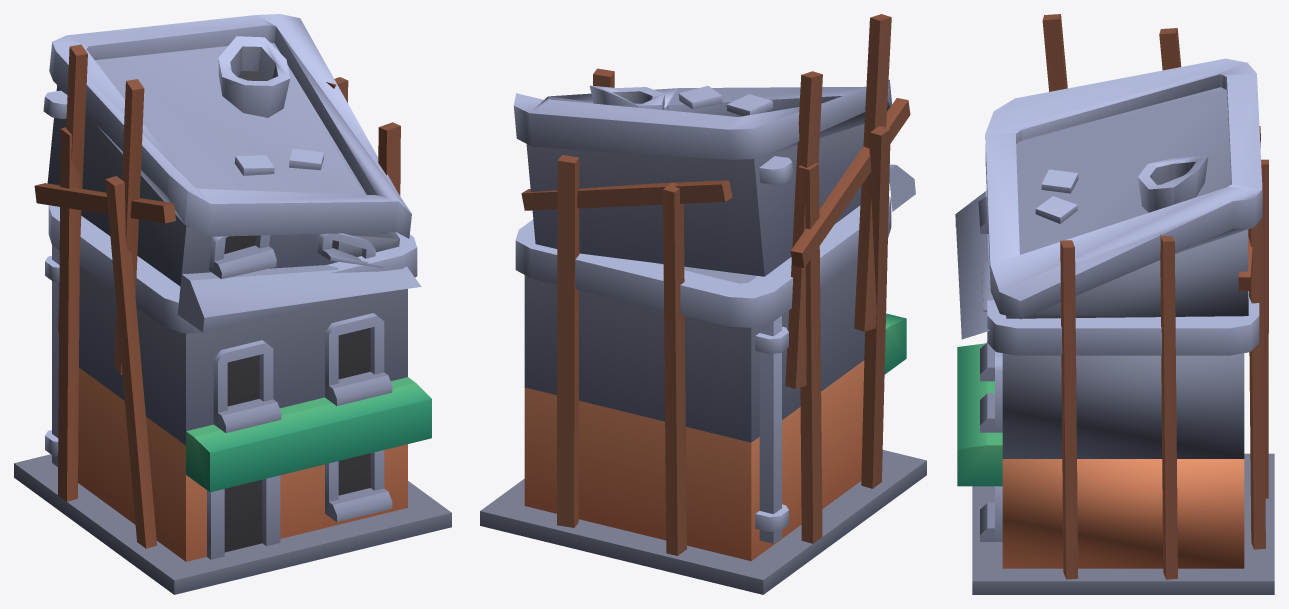
Rendered from building_over_2.glb.
3 renders of one model, left to right at view 1: azimuth 30°, elevation 25°; view 2: azimuth 150°, elevation 25°; view 3: azimuth 270°, elevation 25°, orthographic. The views are drawn at different scales.
Parts seen in each view (by area): view 1: bd - 2; view 2: bd - 2; view 3: bd - 2.
Part boxes in pixels (box(x1,y1,x2,y2)): bd - 2: box(14, 14, 451, 594); bd - 2: box(480, 14, 926, 594); bd - 2: box(955, 14, 1274, 594).
Bounding box in the file's own units: 1.04 × 1.65 × 1.06.
2 materials, 2 textured.
